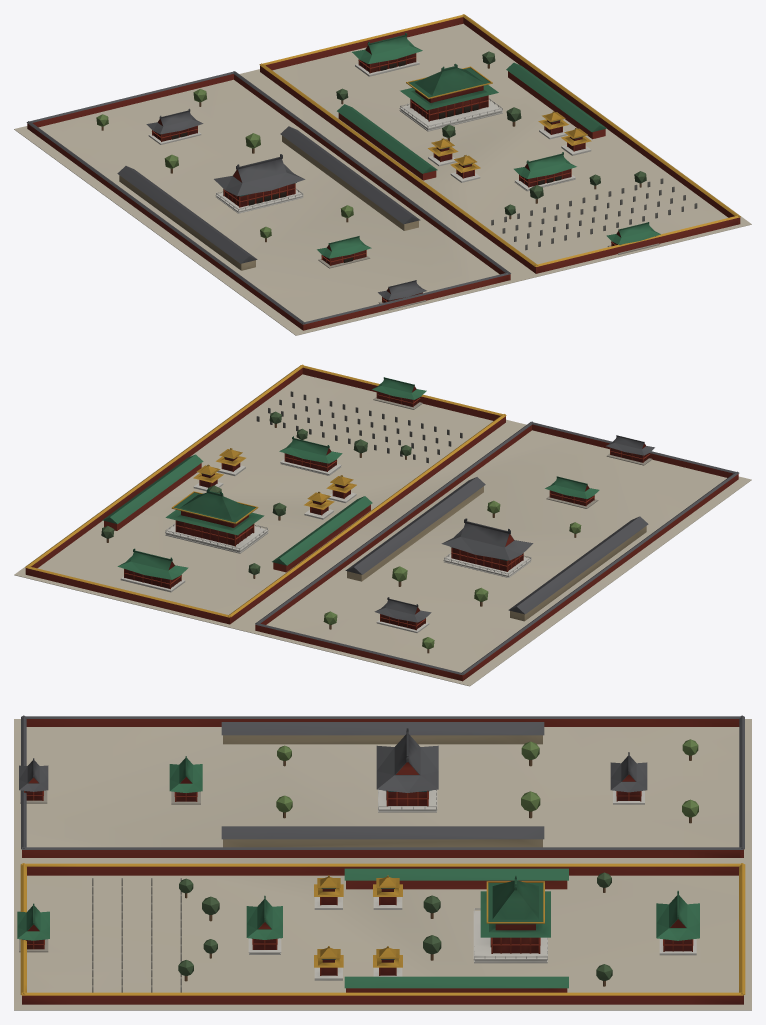
Rendered from confucius-guozijian.glb.
3 views of the same model, one above another, from view 1: azimuth 30°, elevation 25°; view 2: azimuth 150°, elevation 25°; view 3: azimuth 270°, elevation 25° (orthographic). The views are drawn at different scales.
Visible parts, largest first — view 1: p0_walls, p1_halls, p2_trees; view 2: p0_walls, p1_halls, p2_trees; view 3: p0_walls, p1_halls, p2_trees.
Part boxes in pixels (bbox=[...]): p0_walls: bbox=[14, 14, 751, 335]; p1_halls: bbox=[117, 53, 697, 310]; p2_trees: bbox=[96, 33, 660, 300]; p0_walls: bbox=[14, 364, 751, 686]; p1_halls: bbox=[102, 391, 652, 632]; p2_trees: bbox=[101, 377, 654, 653]; p0_walls: bbox=[14, 715, 751, 1010]; p1_halls: bbox=[19, 722, 696, 992]; p2_trees: bbox=[17, 728, 699, 986].
Size of the model in its own units: 280 by 26.99 by 300.
